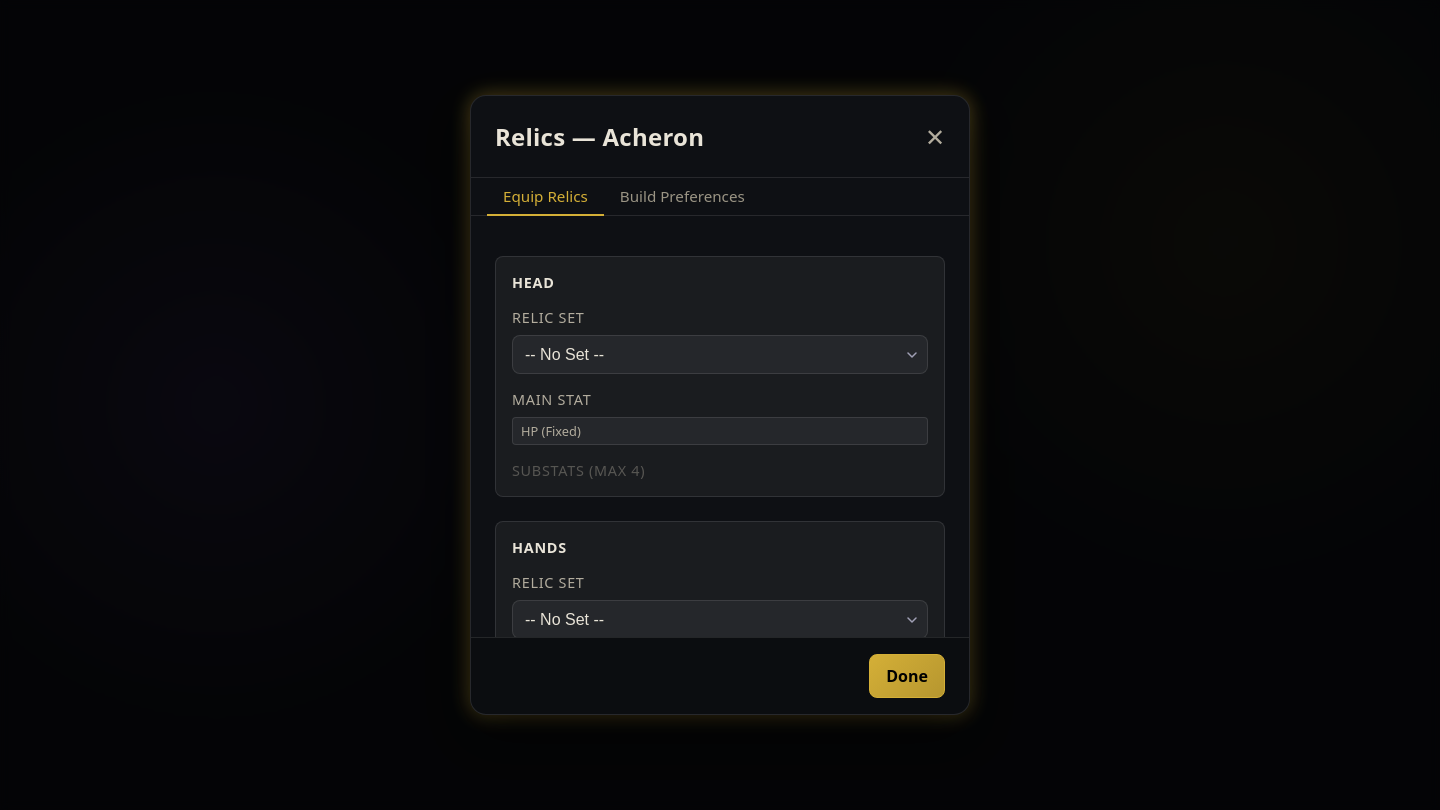
Scenario: RelicEditorModal › shows all four variable-slot main chains together on the preferences tab
The width and height of the screenshot is (1440, 810).
Click the button "Build Preferences" at point(682, 197), box top-left (604, 178), bottom-right (761, 216)
(page scrolled)
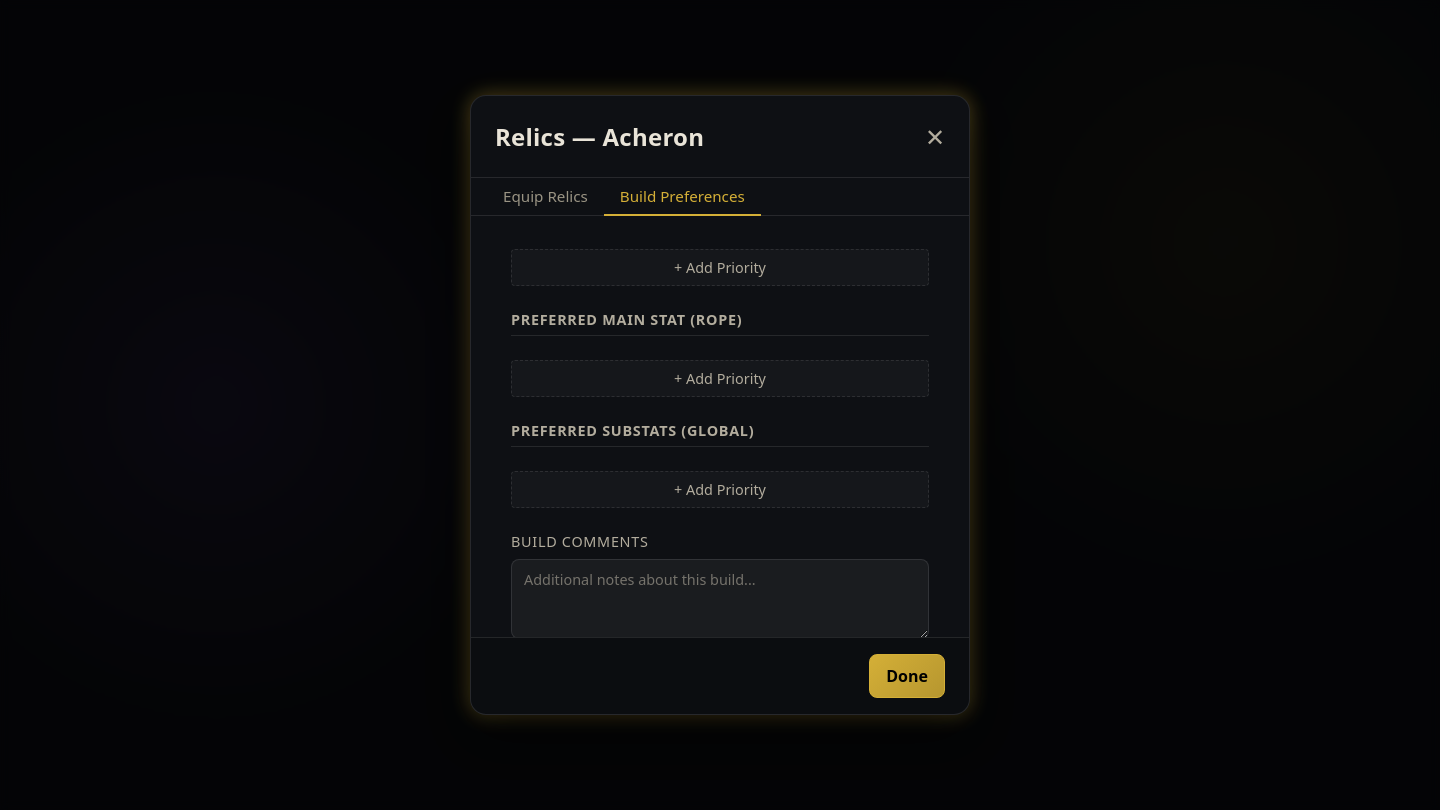
Expected: the heading "Preferred Main Stat (Rope)" is shown, top-left (511, 310), bottom-right (929, 336)
Expected: the heading "Preferred Substats (Global)" is shown, top-left (511, 421), bottom-right (929, 447)
